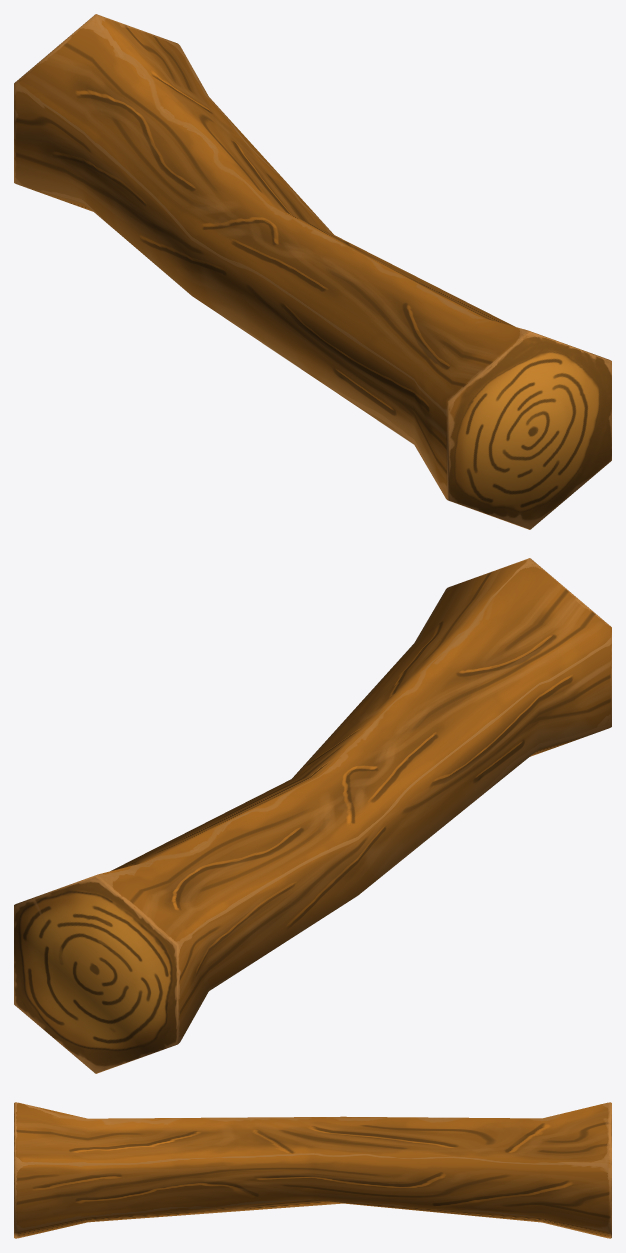
The model's file is Deska.fbx.
3 views of the same model, one above another, from view 1: azimuth 30°, elevation 25°; view 2: azimuth 150°, elevation 25°; view 3: azimuth 270°, elevation 25° (orthographic). The views are drawn at different scales.
Visible parts, largest first — view 1: Cylinder; view 2: Cylinder; view 3: Cylinder.
Boxes of the visible parts, x1,y1,x2,y2 form: Cylinder: [14, 14, 611, 529]; Cylinder: [14, 558, 611, 1073]; Cylinder: [14, 1102, 611, 1238].
Size of the model in its own units: 172 by 198 by 787.
Materials: 1 (1 with a texture image).
